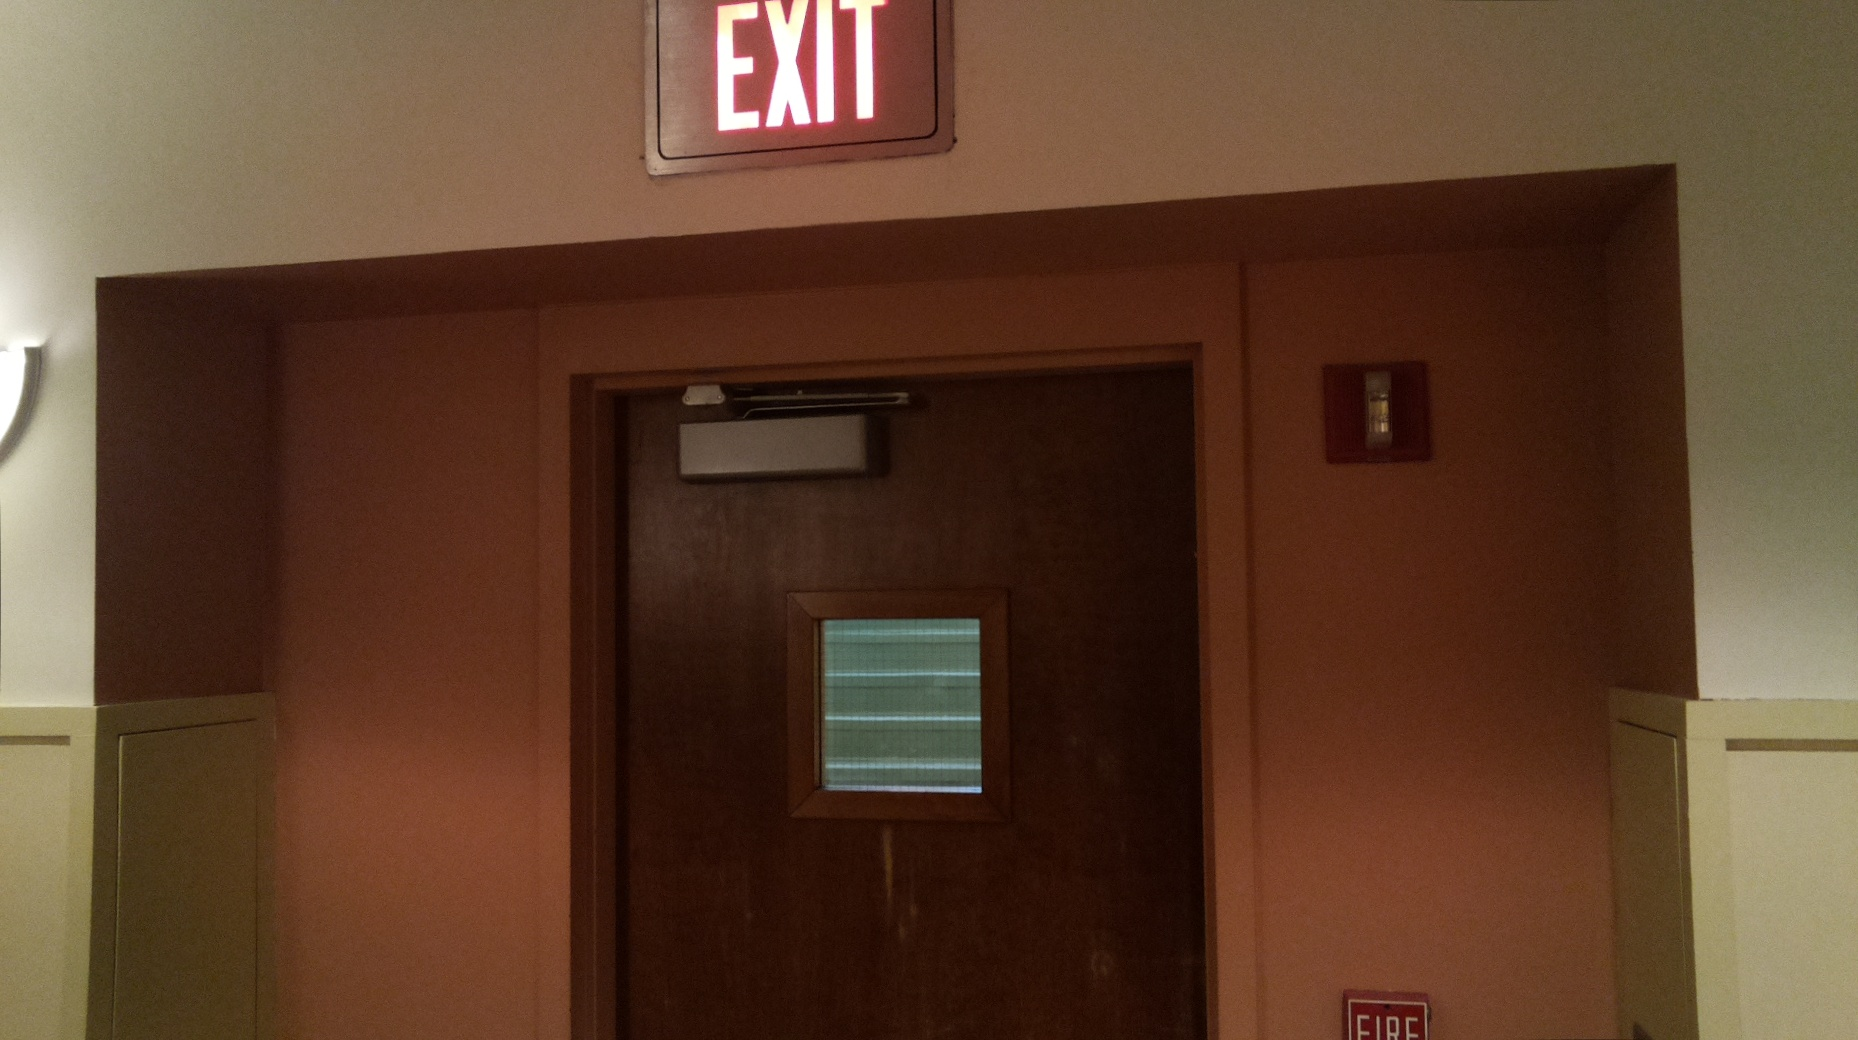exit sign: (635, 1, 967, 188)
